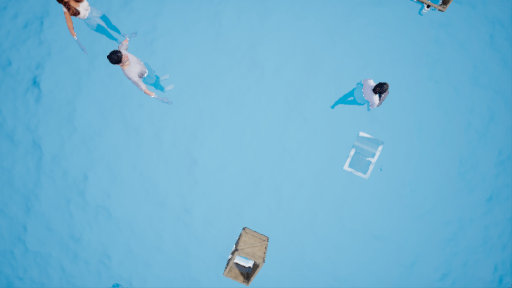person: (54, 1, 144, 58), (111, 45, 177, 103), (333, 77, 391, 118)
